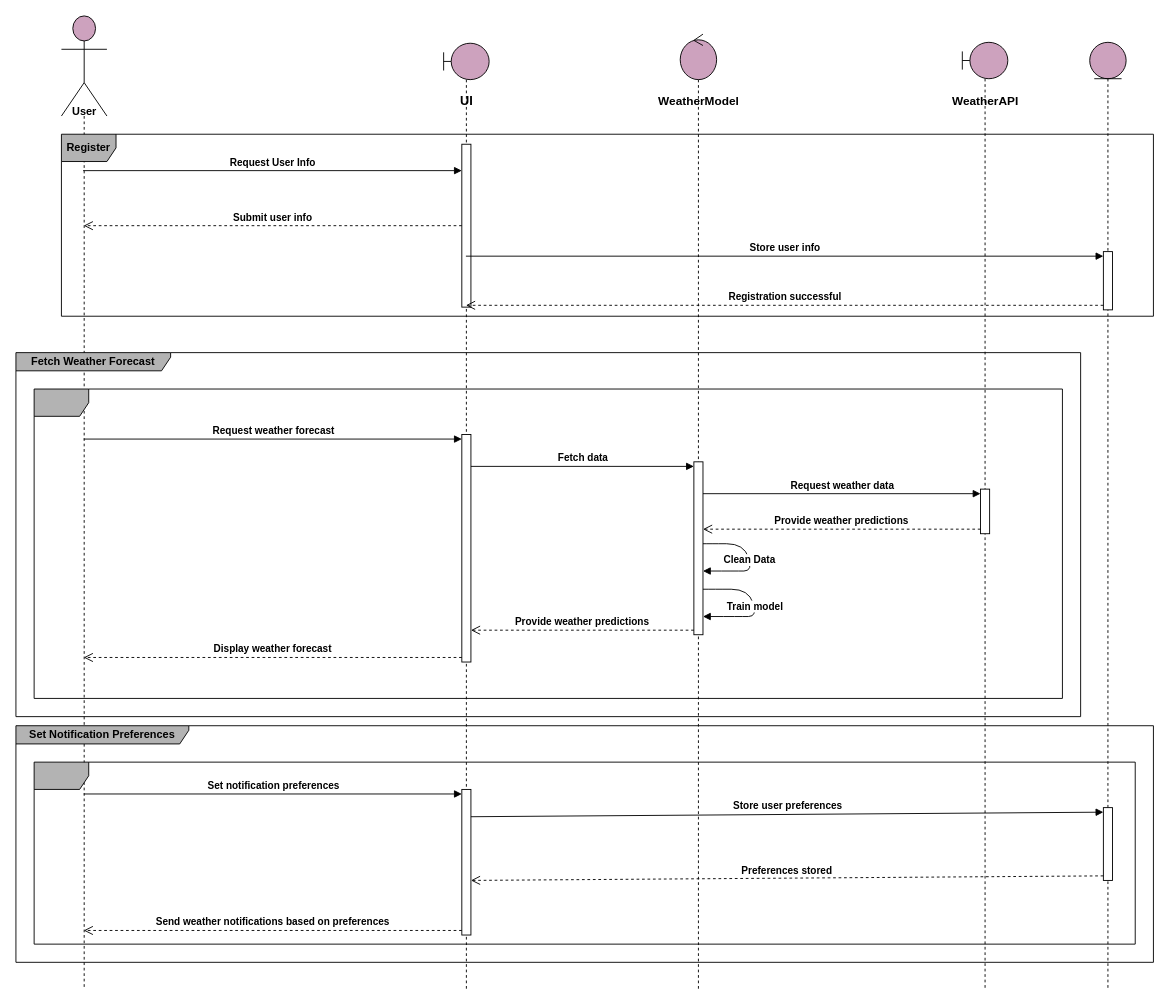
Some shapes in this 1169 by 1006 pixel diagram are drawn without their labels. The box of each missing label's shape, as (x1, y1, x2, y2) in pixels:
Database: (1089, 41, 1126, 990)
loop: (33, 388, 1062, 698)
opt: (33, 761, 1135, 944)
